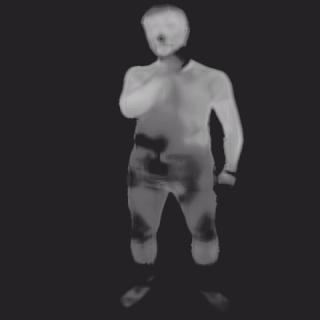Gun: (133, 132, 168, 176)
